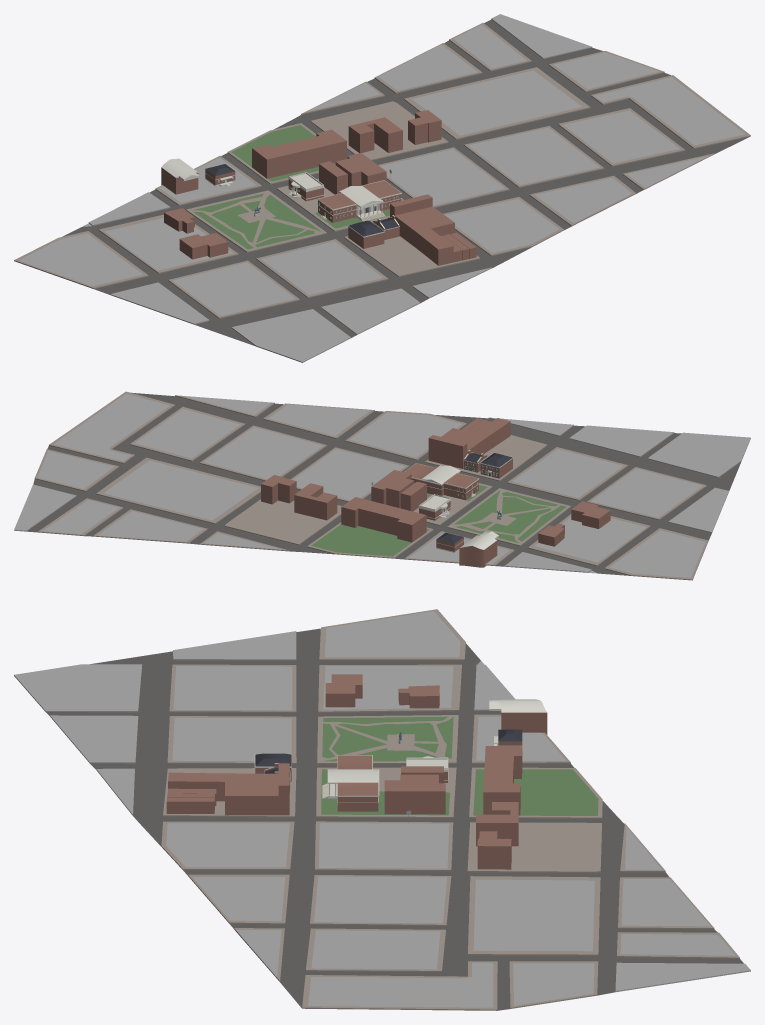
File: downtown mall export 2.fbx
3 views of the same model, one above another, from view 1: azimuth 30°, elevation 25°; view 2: azimuth 150°, elevation 25°; view 3: azimuth 270°, elevation 25° (orthographic). The views are drawn at different scales.
Parts seen in each view (by area): view 1: street, Paramount, Apartment_Block, Jefferson_Madison_Regional_Library, Beth_Israel, Holy_Comforter_Catholic_Church, First_Methodist, Hill_and_Wood_Funeral_Service, BB_T, Albemarle_Charlottesville_Historical_Society, E_Market_200, Blue_Ridge_Group (+1 smaller); view 2: street, Apartment_Block, Paramount, Jefferson_Madison_Regional_Library, Beth_Israel, First_Methodist, Holy_Comforter_Catholic_Church, BB_T, Hill_and_Wood_Funeral_Service, Albemarle_Charlottesville_Historical_Society, Blue_Ridge_Group, E_Market_200 (+2 smaller); view 3: street, Paramount, Jefferson_Madison_Regional_Library, Holy_Comforter_Catholic_Church, Apartment_Block, First_Methodist, Beth_Israel, BB_T, Hill_and_Wood_Funeral_Service, just_house_I_guess, Main_225.
Part boxes in pixels (<box>): street: <box>14,14,750,362</box>; Paramount: <box>390,194,454,265</box>; Apartment_Block: <box>252,129,346,178</box>; Jefferson_Madison_Regional_Library: <box>317,180,401,222</box>; Beth_Israel: <box>348,117,402,153</box>; Holy_Comforter_Catholic_Church: <box>335,153,386,186</box>; First_Methodist: <box>161,158,199,194</box>; Hill_and_Wood_Funeral_Service: <box>179,233,228,259</box>; BB_T: <box>408,110,441,144</box>; Albemarle_Charlottesville_Historical_Society: <box>288,172,324,201</box>; E_Market_200: <box>348,220,384,248</box>; Blue_Ridge_Group: <box>319,161,347,194</box>; street: <box>14,391,750,580</box>; Apartment_Block: <box>341,497,426,542</box>; Paramount: <box>428,418,510,468</box>; Jefferson_Madison_Regional_Library: <box>404,463,479,500</box>; Beth_Israel: <box>294,483,337,520</box>; First_Methodist: <box>459,531,498,567</box>; Holy_Comforter_Catholic_Church: <box>371,470,414,507</box>; BB_T: <box>261,475,296,504</box>; Hill_and_Wood_Funeral_Service: <box>571,501,610,528</box>; Albemarle_Charlottesville_Historical_Society: <box>419,494,450,520</box>; Blue_Ridge_Group: <box>400,481,426,511</box>; E_Market_200: <box>480,452,513,478</box>; street: <box>14,609,750,1010</box>; Paramount: <box>168,763,289,815</box>; Jefferson_Madison_Regional_Library: <box>327,755,379,811</box>; Holy_Comforter_Catholic_Church: <box>384,774,445,814</box>; Apartment_Block: <box>483,746,522,815</box>; First_Methodist: <box>489,699,547,734</box>; Beth_Israel: <box>476,802,518,846</box>; BB_T: <box>477,831,511,869</box>; Hill_and_Wood_Funeral_Service: <box>325,674,362,707</box>; just_house_I_guess: <box>398,685,439,708</box>; Main_225: <box>166,798,214,813</box>.
Bounding box in the file's own units: 17.68 × 0.7361 × 13.75.
